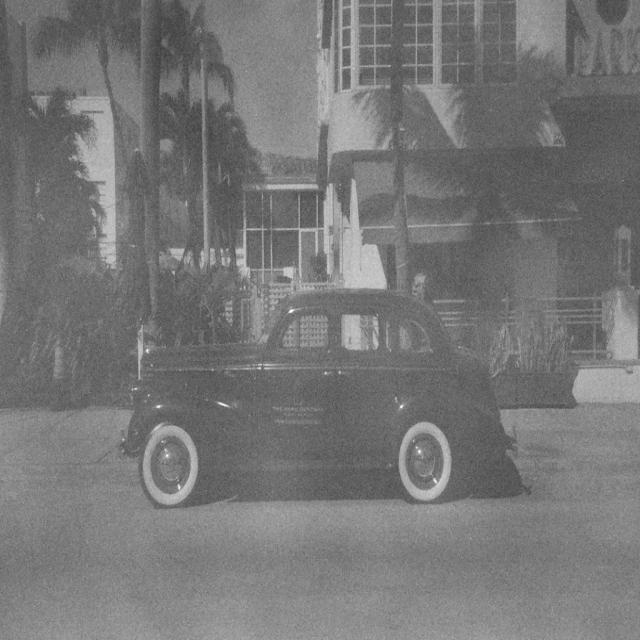car: (119, 286, 516, 509)
